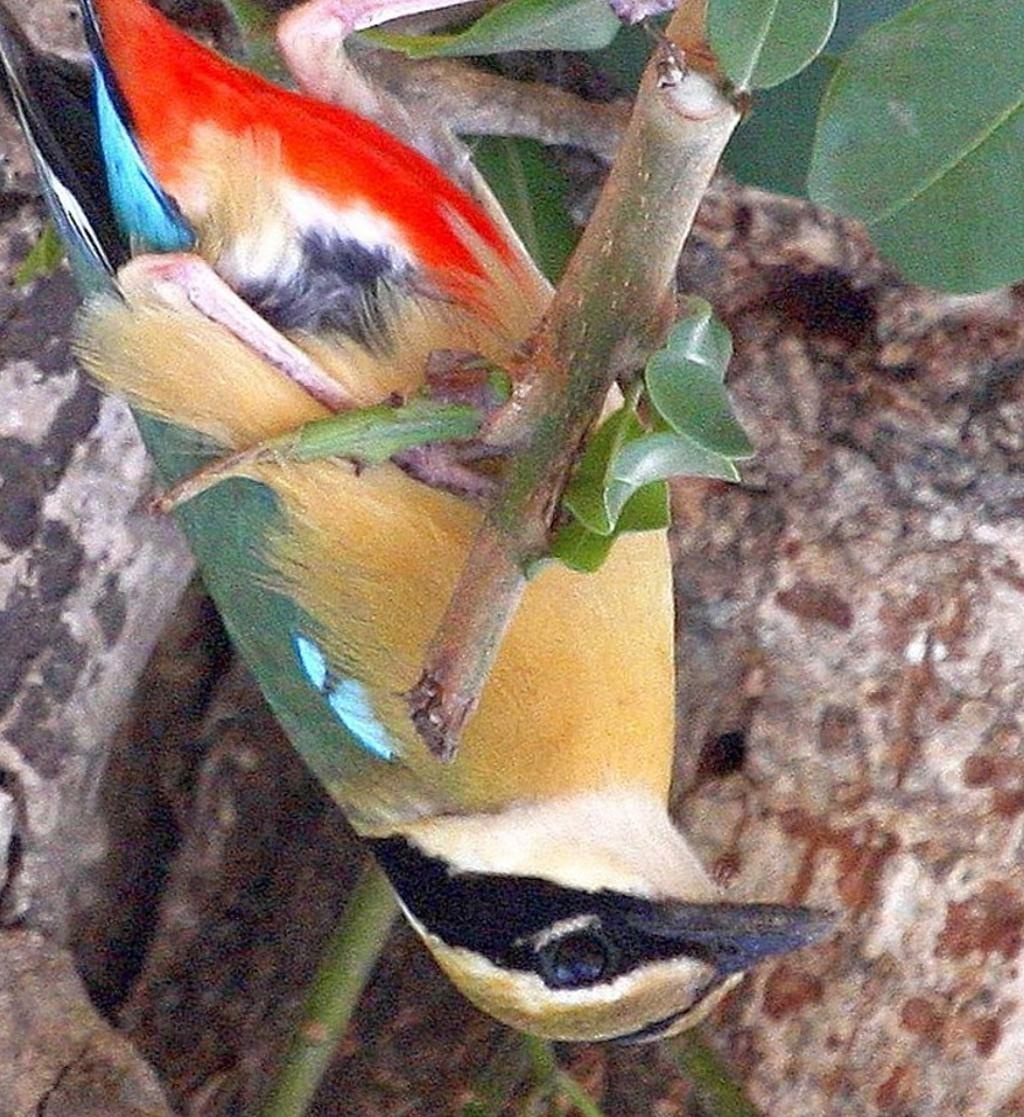pitta: (59, 1, 863, 1070)
